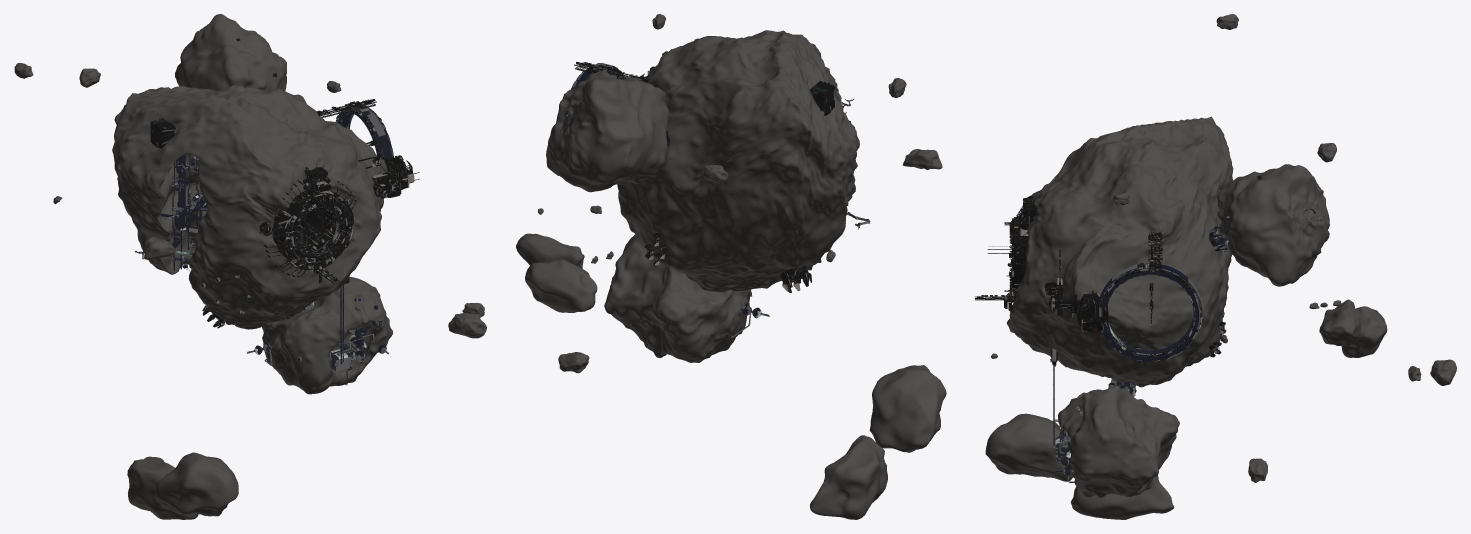
File: stationL.glb
The picture shows the model from 3 angles, left to right: view 1: azimuth 30°, elevation 25°; view 2: azimuth 150°, elevation 25°; view 3: azimuth 270°, elevation 25°; orthographic projection. The views are drawn at different scales.
Visible parts, largest first — view 1: astrodial, stationL.002, astrodial.lower, asteroids, astrodial.uppper, stationL.001; view 2: astrodial, asteroids, astrodial.uppper, astrodial.lower, stationL.002, stationL.001; view 3: astrodial, asteroids, astrodial.uppper, astrodial.lower, stationL.002, stationL.001.
Boxes of the visible parts, x1,y1,x2,y2 form: astrodial: (112, 85, 387, 329); stationL.002: (150, 99, 419, 328); astrodial.lower: (262, 276, 392, 394); asteroids: (14, 63, 360, 519); astrodial.uppper: (175, 14, 286, 90); stationL.001: (134, 38, 394, 385); astrodial: (617, 30, 859, 292); asteroids: (448, 14, 946, 519); astrodial.uppper: (546, 70, 668, 192); astrodial.lower: (604, 234, 750, 362); stationL.002: (572, 62, 846, 292); stationL.001: (557, 63, 870, 337); astrodial: (1006, 116, 1233, 387); asteroids: (985, 14, 1456, 519); astrodial.uppper: (1217, 164, 1329, 286); astrodial.lower: (1058, 385, 1179, 497); stationL.002: (975, 196, 1228, 366); stationL.001: (1053, 175, 1322, 482).
Size of the model in its own units: 153 by 191 by 183.
Materials: 3 (2 with a texture image).
